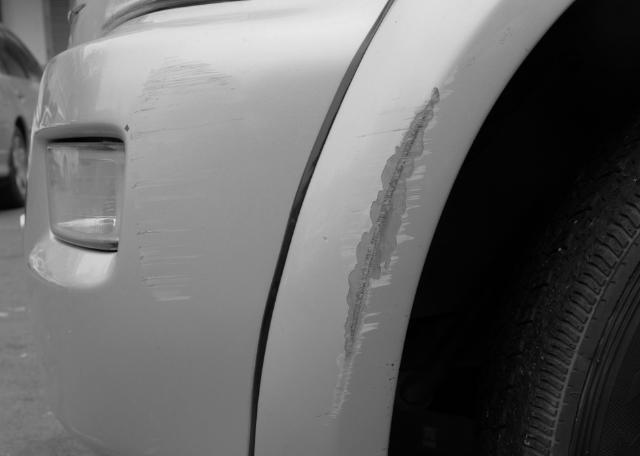Fender: (334, 59, 457, 401)
